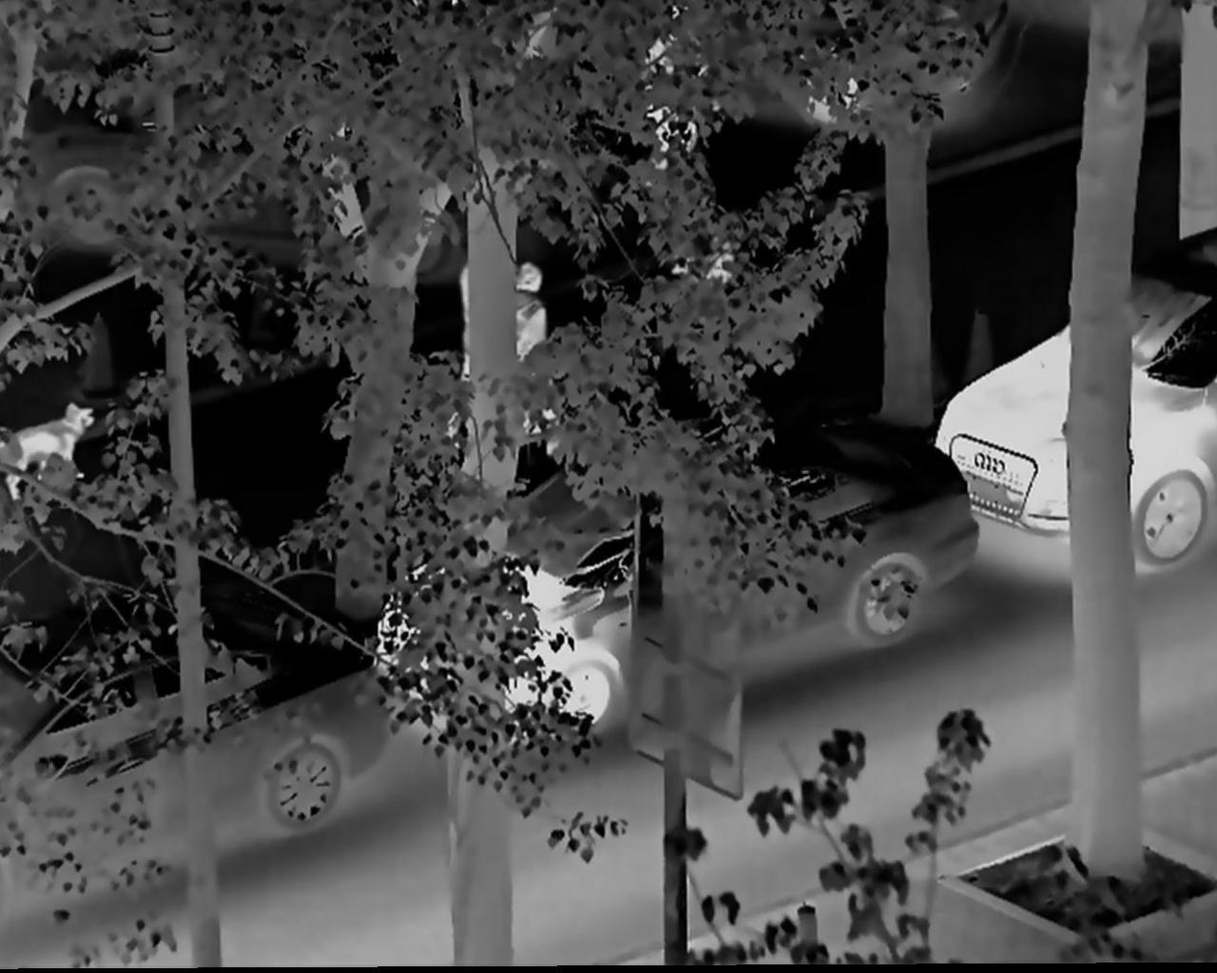person: (509, 258, 552, 400)
